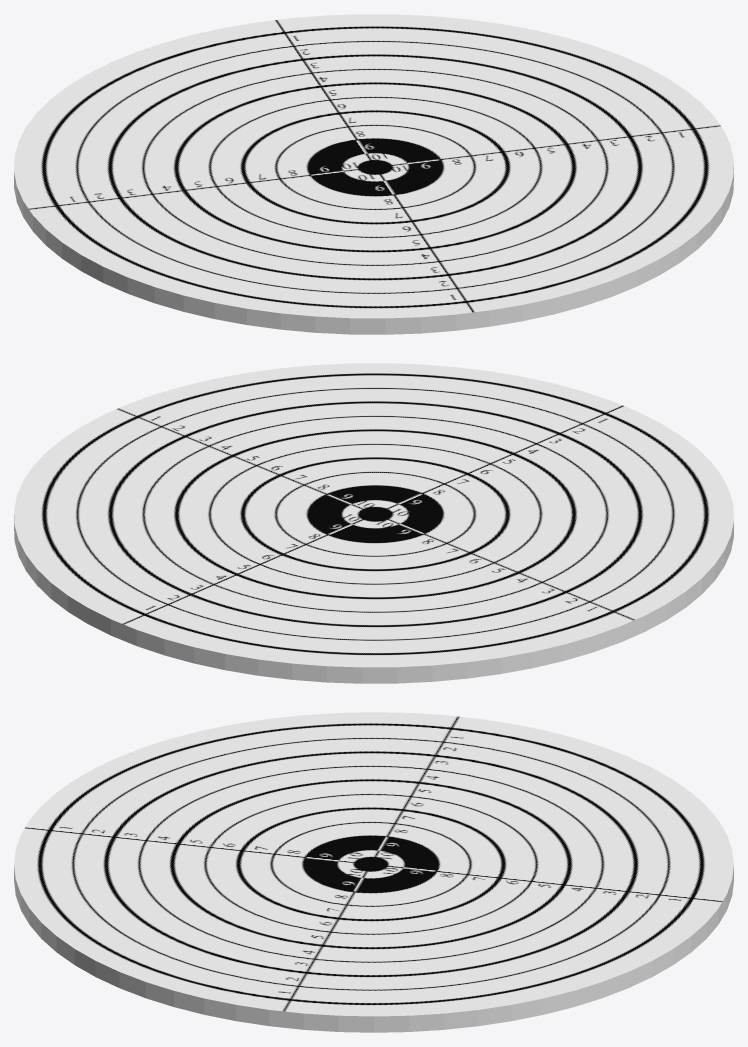
The model's file is target.obj.
The picture shows the model from 3 angles, top to bottom: view 1: azimuth 30°, elevation 25°; view 2: azimuth 150°, elevation 25°; view 3: azimuth 270°, elevation 25°; orthographic projection.
Visible parts, largest first — view 1: Cylinder; view 2: Cylinder; view 3: Cylinder.
Boxes of the visible parts, x1,y1,x2,y2 form: Cylinder: (14, 14, 733, 334); Cylinder: (14, 363, 733, 683); Cylinder: (14, 712, 733, 1032).
Bounding box in the file's own units: 20 × 0.5 × 20.
